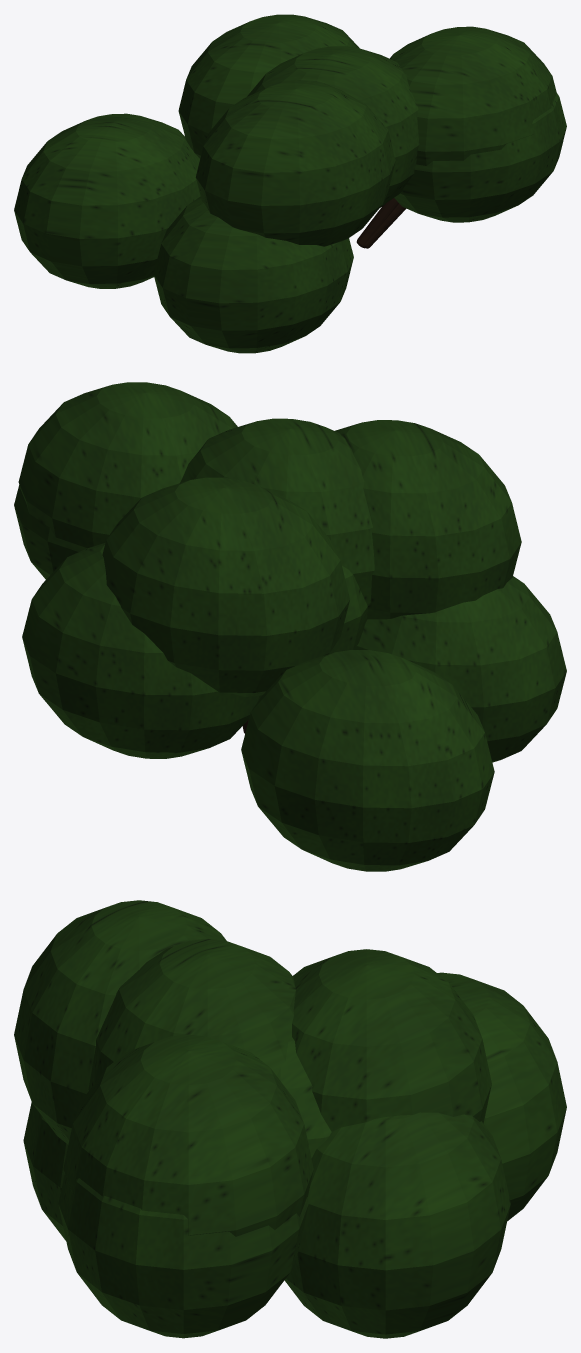
File: PROP-E9BEBA3A5649_lod0.glb
3 views of the same model, one above another, from view 1: azimuth 30°, elevation 25°; view 2: azimuth 150°, elevation 25°; view 3: azimuth 270°, elevation 25° (orthographic). The views are drawn at different scales.
Parts seen in each view (by area): view 1: foliage.009, plant_stem.009; view 2: foliage.009; view 3: foliage.009.
Part boxes in pixels (x1=…): foliage.009: x1=14, y1=14, x2=566, y2=353; plant_stem.009: x1=356, y1=198, x2=406, y2=248; foliage.009: x1=14, y1=382, x2=566, y2=871; foliage.009: x1=14, y1=900, x2=566, y2=1338.
Bounding box in the file's own units: 1.48 × 0.7944 × 1.06.
2 materials, 2 textured.
